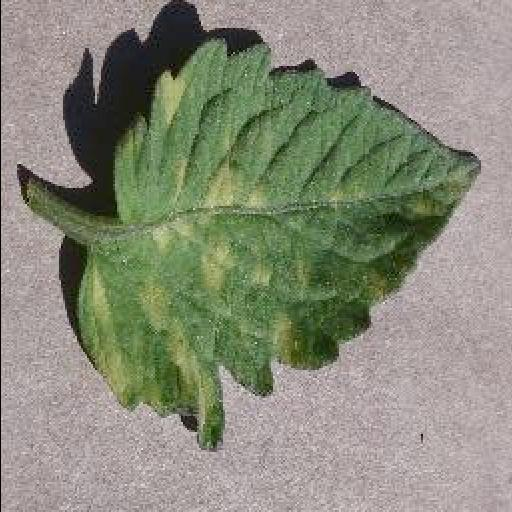disease_tomato: (78, 38, 482, 451)
